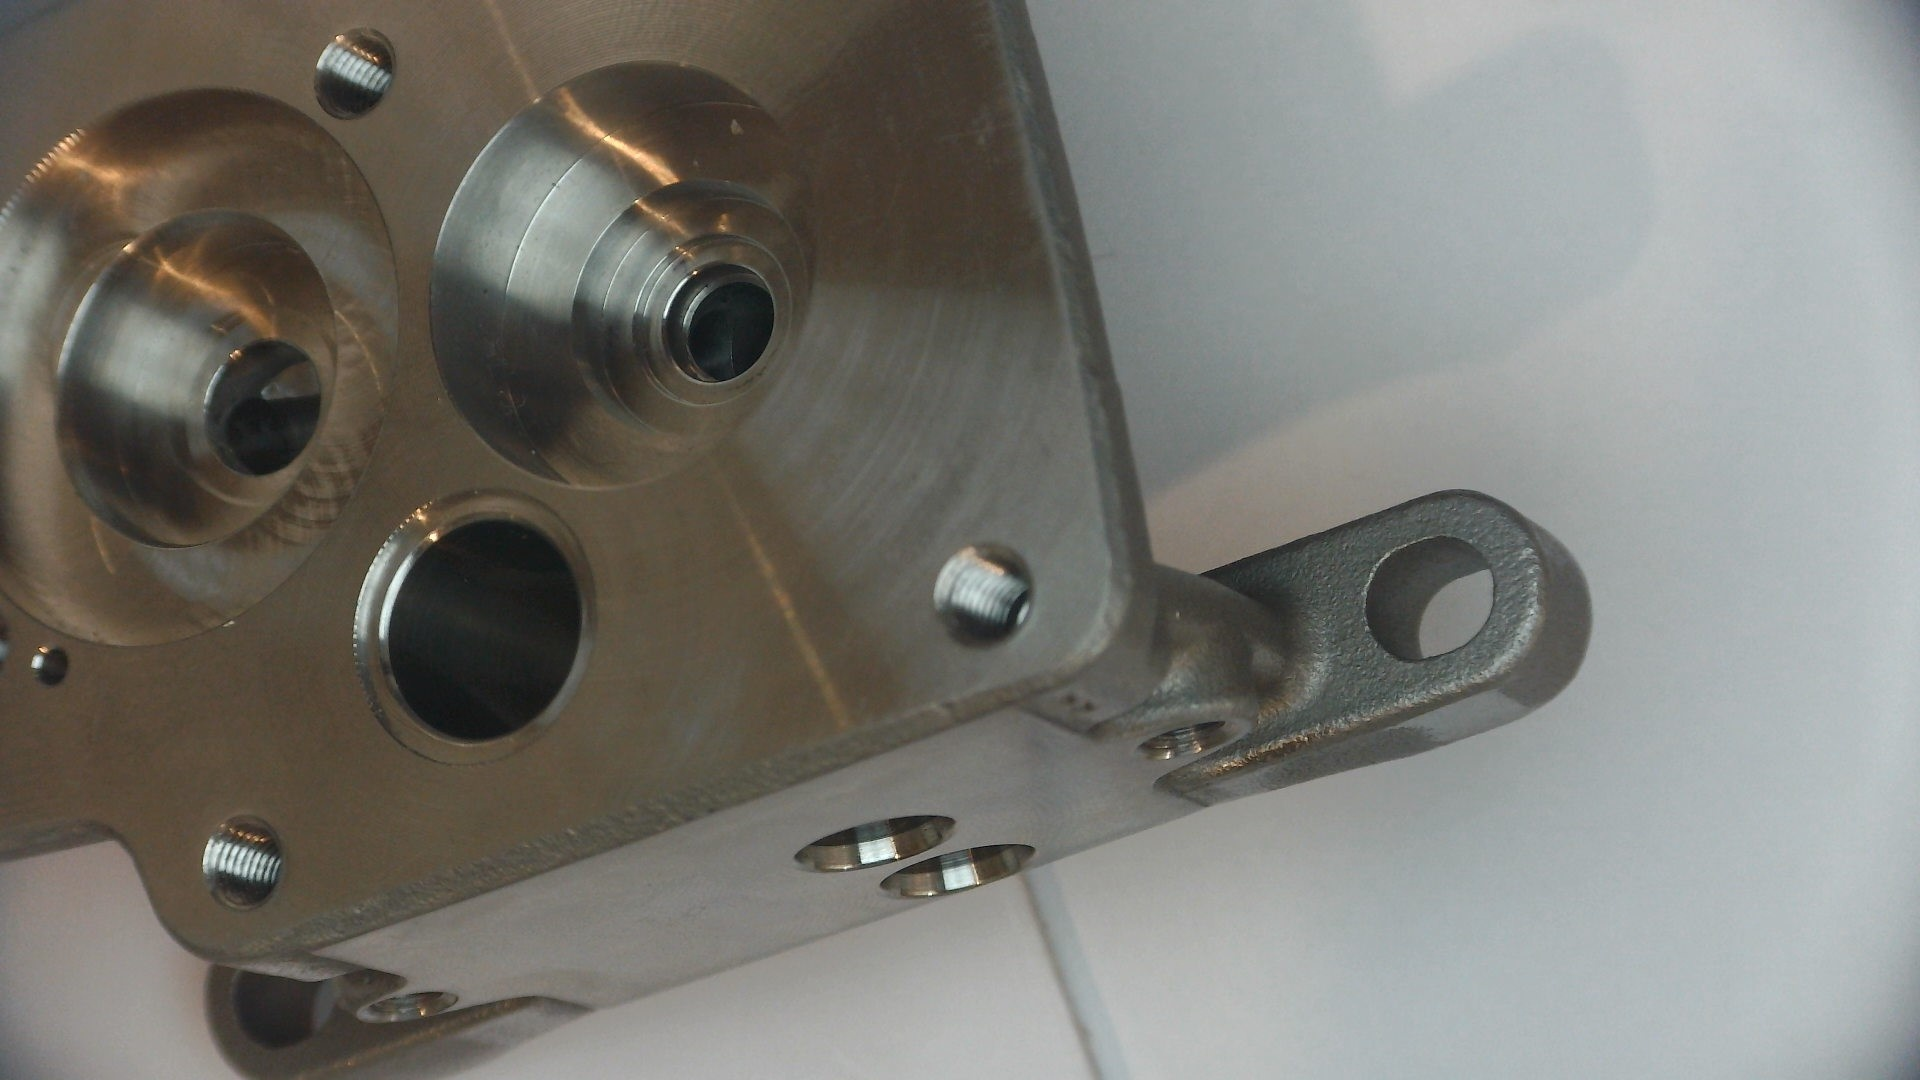thread_presence: (934, 551, 1033, 644), (202, 815, 282, 905), (313, 29, 393, 119)
